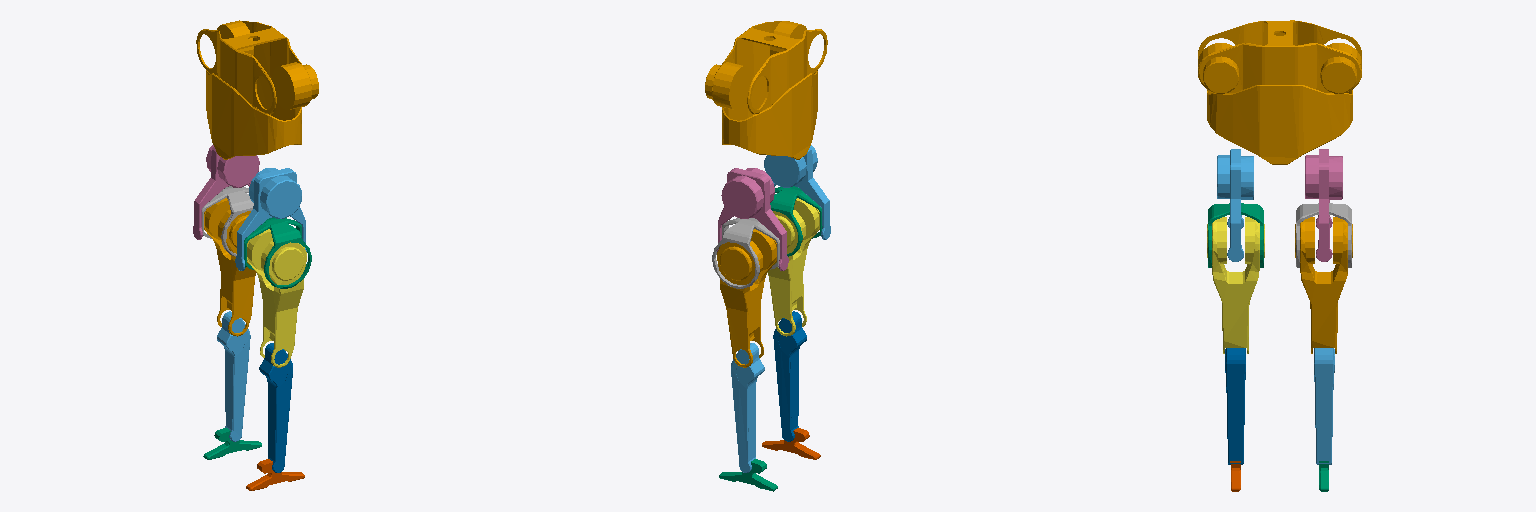
robot.urdf — TELLO:
<robot name="TELLO" xmlns:xacro="http://ros.org/wiki/xacro">
  <!-- ===== DUMMY 'BASE' LINK ==== -->
  <link name="BODY">
    <inertial>
      <mass value="9.807"/>
      <origin xyz="0.0 0.0 0.1345"/>
      <inertia ixx="0.188824827" ixy="0.000008407" ixz="-0.000015445" iyy="0.083219132" iyz="	0.000010634" izz="0.119998911"/>
    </inertial>
    <visual>
      <geometry>
        <mesh filename="mesh_dae/torso.dae" scale="1 1 1"/>
      </geometry>
      <origin rpy="0.0 0.0 0.0" xyz="0.0 0.0 0.0"/>
    </visual>
  </link>
  <!--!!!!!!!!!!!!!!!!!!!!!RIGHT LEG!!!!!!!!!!!!!!!!!!!!!!!!!!!!!!!!!!!!!!!!!!!!!!!!-->
  <joint name="r_hip_yaw" type="continuous">
    <axis xyz="0 0 1"/>
    <origin rpy="0 0 0" xyz="0.0 -0.090 -0.029"/>
    <parent link="BODY"/>
    <child link="R_HIP_C"/>
  </joint>
  <link name="R_HIP_C">
    <inertial>
      <mass value="1.20717"/>
      <origin xyz="-0.00043 0.0 -0.05917"/>
      <inertia ixx="0.001996651" ixy="0.000000328" ixz="0.000040451" iyy="0.002472257" iyz="0.0" izz="0.001645947"/>
    </inertial>
      <visual>
        <geometry>
          <mesh filename="mesh_dae/clamp.dae" scale="1 1 1"/>
        </geometry>
        <origin rpy="0.0 0.0 0.0" xyz="0.0 0.0 0.0"/>
    </visual>
 </link>

  <joint name="r_hip_roll" type="continuous">
    <axis xyz="1 0 0"/>
    <origin rpy="0.0 0.0 0.0" xyz="0.0 0.0 -0.196"/>
    <parent link="R_HIP_C"/>
    <child link="R_HIP_GIMBAL"/>
  </joint>
  <link name="R_HIP_GIMBAL">
    <inertial>
      <mass value="0.26433"/>
      <origin xyz="-0.00152 0.0 0.01677"/>
      <inertia ixx="0.000735018" ixy="0.0" ixz="0.000001772" iyy="0.000715107" iyz="0.000000002" izz="0.000728669"/>
    </inertial>
      <visual>
        <geometry>
          <mesh filename="mesh_dae/gimbal.dae" scale="1 1 1"/>
        </geometry>
        <origin rpy="0.0 0.0 0.0" xyz="0.0 0.0 0.0"/>
    </visual>
 </link>


  <joint name="r_hip_pitch" type="continuous">
    <axis xyz="0 1 0"/>
    <origin rpy="0.0 0 0.0" xyz="0.0 0.0 -0.0"/>
    <parent link="R_HIP_GIMBAL"/>
    <child link="R_THIGH"/>
  </joint>

  <link name="R_THIGH">
    <inertial>
      <mass value="2.111"/>
      <origin xyz="-0.00525 0.00011 -0.03179"/>
      <inertia ixx="0.012171016" ixy="-0.000013456" ixz="-0.000145044" iyy="0.011789322" iyz="0.000027517" izz="0.003575467"/>
    </inertial>
     <visual>
       <geometry>
         <mesh filename="mesh_dae/thigh.dae" scale="1 1 1"/>
       </geometry>
       <origin rpy="0.0 0.0 0.0" xyz="0.0 0.0 0.0"/>
    </visual>
  </link>

  <joint name="r_knee" type="continuous">
    <axis xyz="0 1 0"/>
    <!-- <origin rpy="0 0 0" xyz="0.0 0.0 -0.47"/> -->
    <origin rpy="0 0 0" xyz="0.0 0.0 -0.2286"/>
    <parent link="R_THIGH"/>
    <child link="R_SHANK" />
  </joint>

  <link name="R_SHANK">
    <inertial>
      <mass value="0.37773"/>
      <origin xyz="0.00396 -0.00016 -0.09834"/>
      <inertia ixx="0.001797413" ixy="0.000002934" ixz="0.000019506" iyy="0.001815537" iyz="0.000003553" izz="0.000143890"/>
    </inertial>
      <visual>
        <geometry>
          <mesh filename="mesh_dae/shank.dae" scale="1 1 1"/>
        </geometry>
        <origin rpy="0.0 0.0 0.0" xyz="0.0 0.0 0.0"/>
    </visual>
  </link>

  <joint name="r_ankle" type="continuous">
    <axis xyz="0 1 0"/>
    <!-- <origin rpy="0 0 0" xyz="0.0 0.0 -0.47"/> -->
    <origin rpy="0 0 0" xyz="0.0 0.0 -0.2600"/>
    <parent link="R_SHANK"/>
    <child link="R_FOOT" />
  </joint>

  <link name="R_FOOT">
    <inertial>
      <mass value="0.05552"/>
      <origin xyz="0.01067 0.0 -0.01226"/>
      <inertia ixx="0.000006734" ixy="0.0" ixz="0.000002630" iyy="0.000036387" iyz="0.0" izz="0.000032703"/>
    </inertial>
      <visual>
        <geometry>
          <mesh filename="mesh_dae/foot.dae" scale="1 1 1"/>
        </geometry>
        <origin rpy="0.0 0.0 0.0" xyz="0.0 0.0 0.0"/>
    </visual>
  </link>


  <!--!!!!!!!!!!!!!!!!!!!!!LEFT LEG!!!!!!!!!!!!!!!!!!!!!!!!!!!!!!!!!!!!!!!!!!!!!!!!-->
  <joint name="l_hip_yaw" type="continuous">
    <axis xyz="0 0 1"/>
    <origin rpy="0 0 0" xyz="0.0 0.090 -0.029"/>
    <parent link="BODY"/>
    <child link="L_HIP_C"/>
  </joint>
  <link name="L_HIP_C">
    <inertial>
      <mass value="1.19633"/>
      <origin xyz="-0.00044 0.0 -0.05368"/>
      <inertia ixx="0.001961019" ixy="0.000000328" ixz="0.000040006" iyy="0.002434744" iyz="0.0" izz="0.001642970"/>
    </inertial>
      <visual>
        <geometry>
          <mesh filename="mesh_dae/clamp.dae" scale="1 1 1"/>
        </geometry>
        <origin rpy="0.0 0.0 0.0" xyz="0.0 0.0 0.0"/>
    </visual>
 </link>

  <joint name="l_hip_roll" type="continuous">
    <axis xyz="1 0 0"/>
    <origin rpy="0.0 0.0 0.0" xyz="0.0 0.0 -0.196"/>
    <parent link="L_HIP_C"/>
    <child link="L_HIP_GIMBAL"/>
  </joint>
  <link name="L_HIP_GIMBAL">
    <inertial>
      <mass value="0.26433"/>
      <origin xyz="-0.00152 0.0 0.01677"/>
      <inertia ixx="0.000735018" ixy="0.0" ixz="0.000001772" iyy="0.000715107" iyz="0.000000002" izz="0.000728669"/>
    </inertial>
      <visual>
        <geometry>
          <mesh filename="mesh_dae/gimbal.dae" scale="1 1 1"/>
        </geometry>
        <origin rpy="0.0 0.0 0.0" xyz="0.0 0.0 0.0"/>
    </visual>
 </link>

  <joint name="l_hip_pitch" type="continuous">
    <axis xyz="0 1 0"/>
    <origin rpy="0.0 0 0.0" xyz="0.0 0.0 -0.0"/>
    <parent link="L_HIP_GIMBAL"/>
    <child link="L_THIGH"/>
  </joint>

  <link name="L_THIGH">
    <inertial>
      <mass value="2.111"/>
      <origin xyz="-0.00525 0.00011 -0.03179"/>
      <inertia ixx="0.012171016" ixy="-0.000013456" ixz="-0.000145044" iyy="0.011789322" iyz="0.000027517" izz="0.003575467"/>
    </inertial>
     <visual>
       <geometry>
         <mesh filename="mesh_dae/thigh.dae" scale="1 1 1"/>
       </geometry>
       <origin rpy="0.0 0.0 0.0" xyz="0.0 0.0 0.0"/>
    </visual>
  </link>

  <joint name="l_knee" type="continuous">
    <axis xyz="0 1 0"/>
    <!-- <origin rpy="0 0 0" xyz="0.0 0.0 -0.47"/> -->
    <origin rpy="0 0 0" xyz="0.0 0.0 -0.2286"/>
    <parent link="L_THIGH"/>
    <child link="L_SHANK" />
  </joint>

  <link name="L_SHANK">
    <inertial>
      <mass value="0.37773"/>
      <origin xyz="0.00396 -0.00016 -0.09834"/>
      <inertia ixx="0.001797413" ixy="0.000002934" ixz="0.000019506" iyy="0.001815537" iyz="0.000003553" izz="0.000143890"/>
    </inertial>
      <visual>
        <geometry>
          <mesh filename="mesh_dae/shank.dae" scale="1 1 1"/>
        </geometry>
        <origin rpy="0.0 0.0 0.0" xyz="0.0 0.0 0.0"/>
    </visual>
  </link>

  <joint name="l_ankle" type="continuous">
    <axis xyz="0 1 0"/>
    <!-- <origin rpy="0 0 0" xyz="0.0 0.0 -0.47"/> -->
    <origin rpy="0 0 0" xyz="0.0 0.0 -0.2600"/>
    <parent link="L_SHANK"/>
    <child link="L_FOOT" />
  </joint>

  <link name="L_FOOT">
    <inertial>
      <mass value="0.05552"/>
      <origin xyz="0.01067 0.0 -0.01226"/>
      <inertia ixx="0.000006734" ixy="0.0" ixz="0.000002630" iyy="0.000036387" iyz="0.0" izz="0.000032703"/>
    </inertial>
      <visual>
        <geometry>
          <mesh filename="mesh_dae/foot.dae" scale="1 1 1"/>
        </geometry>
        <origin rpy="0.0 0.0 0.0" xyz="0.0 0.0 0.0"/>
    </visual>
  </link>
</robot>

--- What the picture shows (computed from the rendered views, not written in the file) ---
Views: 3 orthographic renders of the robot side by side, from view 1: azimuth 30°, elevation 25°; view 2: azimuth 150°, elevation 25°; view 3: azimuth 270°, elevation 25°.
Model TELLO with 11 links and 10 joints (10 continuous), rooted at BODY, posed all joints at 0.
Links seen in each view (by area): view 1: BODY, R_THIGH, L_THIGH, R_HIP_C, L_SHANK, R_SHANK, L_HIP_C, R_HIP_GIMBAL, L_HIP_GIMBAL, R_FOOT, L_FOOT; view 2: BODY, L_THIGH, R_THIGH, L_HIP_C, R_SHANK, L_SHANK, R_HIP_C, L_HIP_GIMBAL, R_HIP_GIMBAL, L_FOOT, R_FOOT; view 3: BODY, L_THIGH, R_THIGH, L_HIP_C, R_HIP_C, L_SHANK, R_SHANK, L_HIP_GIMBAL, R_HIP_GIMBAL.
Boxes of the visible links, bbox=[...] form: BODY: bbox=[196, 20, 318, 159]; R_THIGH: bbox=[247, 229, 306, 367]; L_THIGH: bbox=[204, 198, 256, 336]; R_HIP_C: bbox=[235, 168, 306, 270]; L_SHANK: bbox=[217, 311, 250, 441]; R_SHANK: bbox=[259, 343, 292, 472]; L_HIP_C: bbox=[193, 145, 259, 239]; R_HIP_GIMBAL: bbox=[244, 217, 311, 288]; L_HIP_GIMBAL: bbox=[202, 186, 253, 256]; R_FOOT: bbox=[246, 459, 304, 490]; L_FOOT: bbox=[203, 428, 261, 459]; BODY: bbox=[705, 21, 827, 159]; L_THIGH: bbox=[717, 229, 776, 367]; R_THIGH: bbox=[767, 198, 819, 336]; L_HIP_C: bbox=[717, 168, 788, 270]; R_SHANK: bbox=[773, 311, 806, 441]; L_SHANK: bbox=[731, 343, 764, 472]; R_HIP_C: bbox=[764, 145, 830, 239]; L_HIP_GIMBAL: bbox=[712, 218, 779, 288]; R_HIP_GIMBAL: bbox=[770, 186, 822, 256]; L_FOOT: bbox=[719, 459, 777, 491]; R_FOOT: bbox=[762, 428, 820, 459]; BODY: bbox=[1198, 20, 1361, 164]; L_THIGH: bbox=[1295, 217, 1352, 353]; R_THIGH: bbox=[1207, 217, 1264, 353]; L_HIP_C: bbox=[1305, 149, 1342, 261]; R_HIP_C: bbox=[1217, 149, 1253, 261]; L_SHANK: bbox=[1314, 348, 1334, 464]; R_SHANK: bbox=[1225, 348, 1245, 464]; L_HIP_GIMBAL: bbox=[1296, 203, 1351, 267]; R_HIP_GIMBAL: bbox=[1208, 203, 1263, 267].
Bounding box of the posed robot: 0.169 × 0.3357 × 1 m (x, y, z).
Meshes: 6 distinct files referenced, 11 mesh visuals loaded (6 Collada DAE).